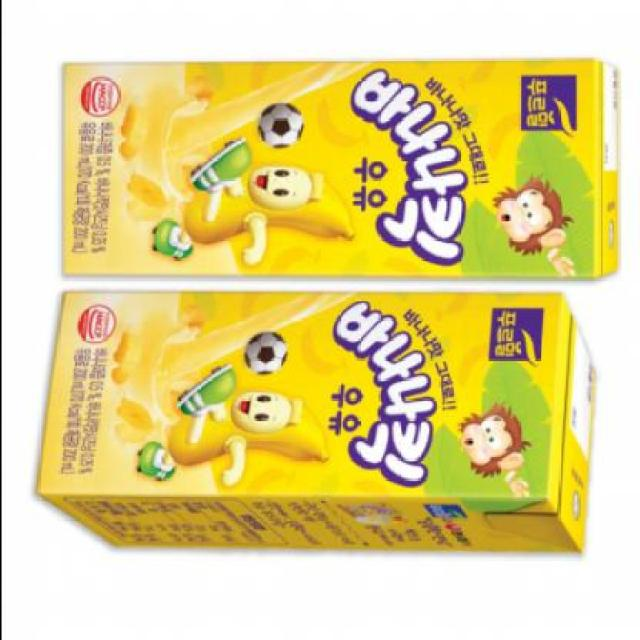tetra: (29, 284, 626, 576), (43, 12, 639, 288)
